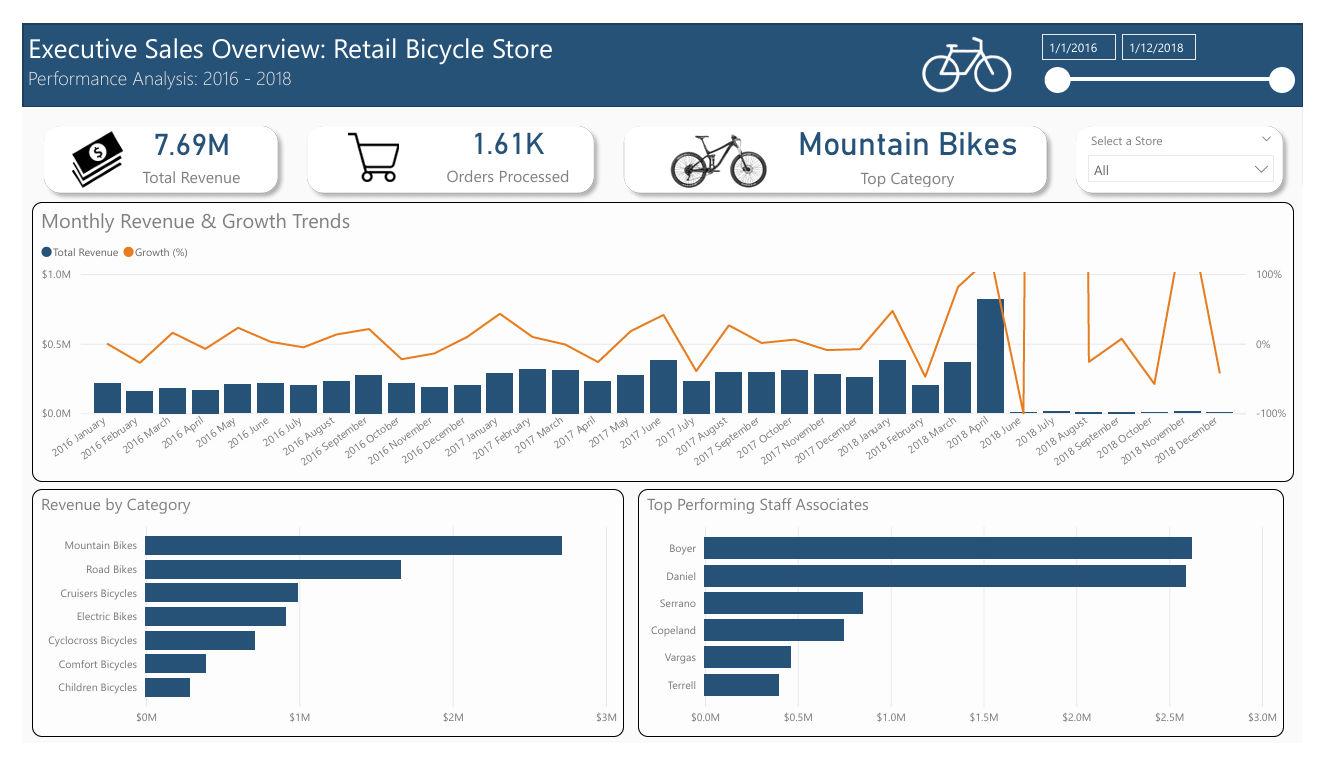

The page's visual inventory and layout, read from the dashboard file:
{"tool":"powerbi","page":{"name":"Page 1","canvas":[1280,720],"ordinal":0},"visuals":[{"type":"shape","box":[12,93,252,85],"z":0},{"type":"shape","box":[0,0,1280,83],"z":1000},{"type":"lineClusteredColumnComboChart","title":"Monthly Revenue & Growth Trends","fields":{"Y":["bicycle_store v_monthly_sales_growth.total_revenue"],"Y2":["bicycle_store v_monthly_sales_growth.Growth_Percent"],"Category":["bicycle_store v_monthly_sales_growth.Report Date.Variation.Date Hierarchy.Year","bicycle_store v_monthly_sales_growth.Report Date.Variation.Date Hierarchy.Month"]},"box":[9.3,177.9,1261.4,280],"z":2000},{"type":"clusteredBarChart","title":"Revenue by Category","fields":{"Category":["bicycle_store v_sales_by_category.category_name"],"Y":["bicycle_store v_sales_by_category.total_revenue"]},"box":[9.3,465,591.4,247.9],"z":3000},{"type":"clusteredBarChart","title":"Top Performing Staff Associates","fields":{"Category":["bicycle_store v_staff_performance.last_name"],"Y":["bicycle_store v_staff_performance.total_revenue"]},"box":[615,465,646.4,247.9],"z":4000},{"type":"textbox","box":[0,0,665,83],"z":5000},{"type":"slicer","fields":{"Values":["bicycle_store v_monthly_sales_growth.Report Date"]},"box":[1006,0,274,83],"z":6000},{"type":"image","box":[872,0,144,83.2],"z":7000},{"type":"shape","box":[275.3,93,305,85],"z":8000},{"type":"shape","box":[591.7,93,441,85],"z":9000},{"type":"shape","box":[1044,93,225,85],"z":10000},{"type":"advanceCardE03760C5AB684758B56AA29F9E6C257B","fields":{"mainMeasure":["bicycle_store v_monthly_sales_trend.total_revenue"]},"box":[106,92.6,125,77],"z":11000},{"type":"image","box":[35,86,79,99],"z":12000},{"type":"advanceCardE03760C5AB684758B56AA29F9E6C257B","fields":{"mainMeasure":["bicycle_store orders (2).order_id"]},"box":[378.5,97.4,212.1,67.5],"z":13000},{"type":"advanceCardE03760C5AB684758B56AA29F9E6C257B","fields":{"mainMeasure":["bicycle_store v_sales_by_category.category_name"]},"box":[738.2,94.1,293.2,73.9],"z":14000},{"type":"slicer","fields":{"Values":["bicycle_store stores.store_name"]},"box":[1054.9,102.7,206.1,65.4],"z":15000},{"type":"image","box":[597.9,98.6,196.4,73.6],"z":16000},{"type":"image","box":[275,102.9,152.9,61.4],"z":17000}]}

Visuals, with their boxes on the page's 1280x720 design canvas (x1, y1, x2, y2). These are canvas units, not pixel positions in the 1325x767 screenshot, which may show the page scaled, cropped or inside an application window:
shape: pyautogui.locateOnScreen(12, 93, 264, 178)
shape: pyautogui.locateOnScreen(0, 0, 1280, 83)
"Monthly Revenue & Growth Trends" lineClusteredColumnComboChart: pyautogui.locateOnScreen(9, 178, 1271, 458)
"Revenue by Category" clusteredBarChart: pyautogui.locateOnScreen(9, 465, 601, 713)
"Top Performing Staff Associates" clusteredBarChart: pyautogui.locateOnScreen(615, 465, 1261, 713)
textbox: pyautogui.locateOnScreen(0, 0, 665, 83)
slicer - bicycle_store v_monthly_sales_growth.Report Date: pyautogui.locateOnScreen(1006, 0, 1280, 83)
image: pyautogui.locateOnScreen(872, 0, 1016, 83)
shape: pyautogui.locateOnScreen(275, 93, 580, 178)
shape: pyautogui.locateOnScreen(592, 93, 1033, 178)
shape: pyautogui.locateOnScreen(1044, 93, 1269, 178)
advanceCardE03760C5AB684758B56AA29F9E6C257B - bicycle_store v_monthly_sales_trend.total_revenue: pyautogui.locateOnScreen(106, 93, 231, 170)
image: pyautogui.locateOnScreen(35, 86, 114, 185)
advanceCardE03760C5AB684758B56AA29F9E6C257B - bicycle_store orders (2).order_id: pyautogui.locateOnScreen(378, 97, 591, 165)
advanceCardE03760C5AB684758B56AA29F9E6C257B - bicycle_store v_sales_by_category.category_name: pyautogui.locateOnScreen(738, 94, 1031, 168)
slicer - bicycle_store stores.store_name: pyautogui.locateOnScreen(1055, 103, 1261, 168)
image: pyautogui.locateOnScreen(598, 99, 794, 172)
image: pyautogui.locateOnScreen(275, 103, 428, 164)
